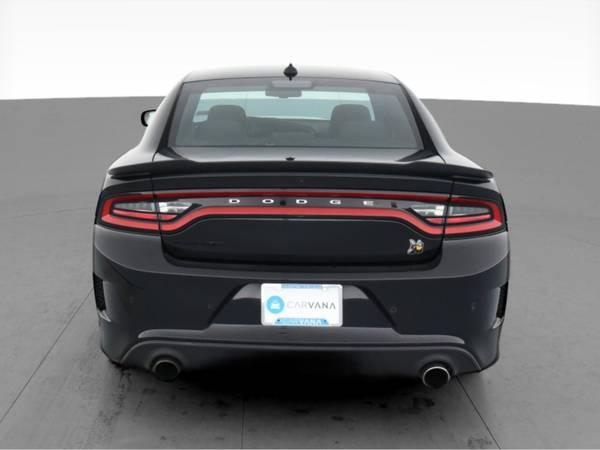Left_Taillight: (96, 177, 161, 232)
Rear_Bumper: (93, 222, 509, 385)
Rear_Fender: (433, 147, 499, 196), (103, 143, 161, 191)
Rear_Windshield: (162, 77, 425, 149)
Right_Taillight: (442, 178, 508, 239)
Roof: (135, 66, 447, 156)
Tailgate: (149, 144, 450, 267)
